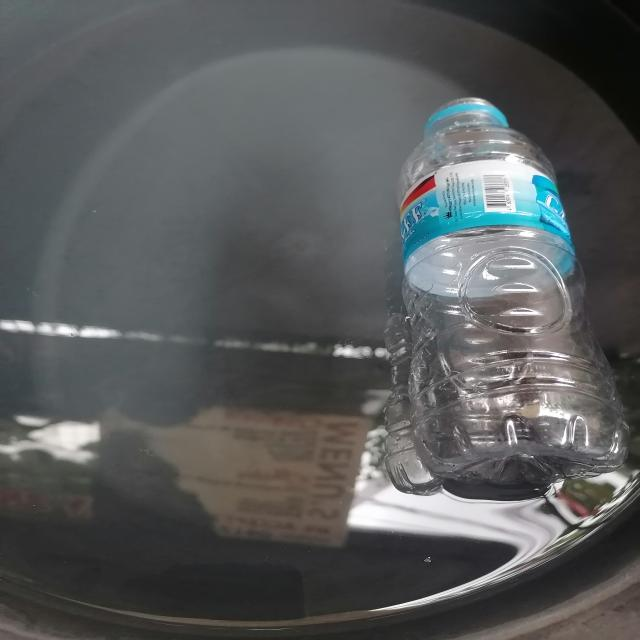Plastic Bottle: (386, 98, 627, 490)
